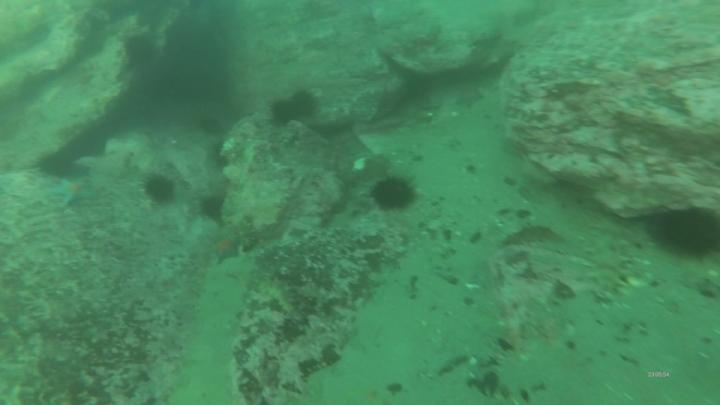echinus: (644, 205, 720, 262), (371, 172, 420, 215), (141, 172, 179, 208), (268, 98, 295, 127), (199, 192, 226, 220), (292, 91, 320, 117)
holothurian: (260, 276, 296, 315)
starfish: (52, 176, 100, 210), (210, 235, 245, 266), (454, 81, 486, 111)
